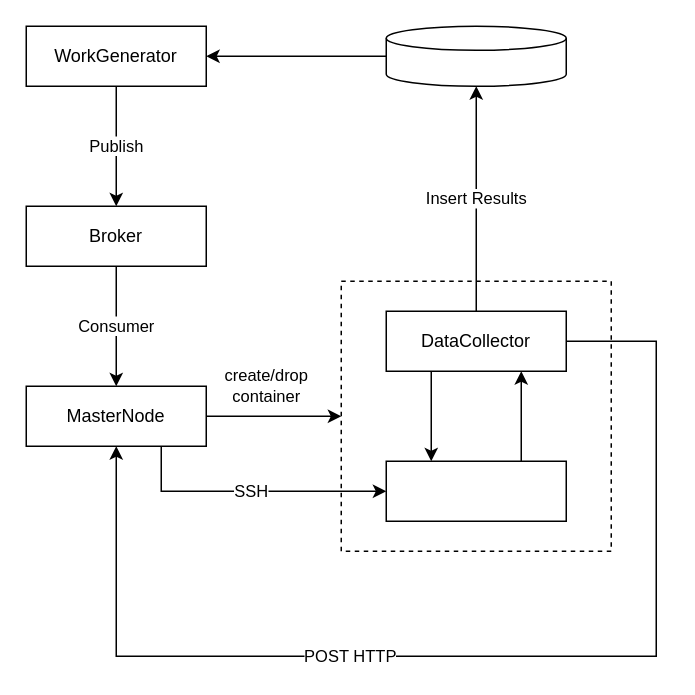
The diagram is 695 pixels wide and 695 high, and some of its shapes have lost their labels. Each missing label, with the centre of its shape:
MongoDB: [475,55]
Simulator: [475,490]
